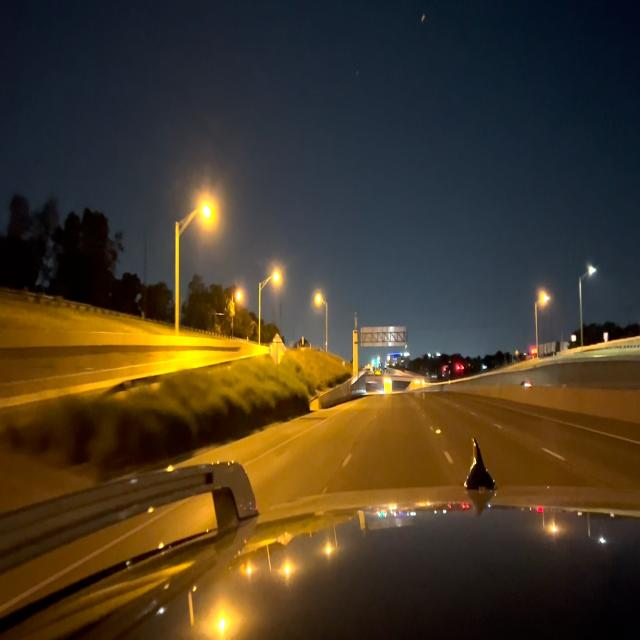back-of-sign: (360, 326, 408, 344), (269, 333, 286, 367)
